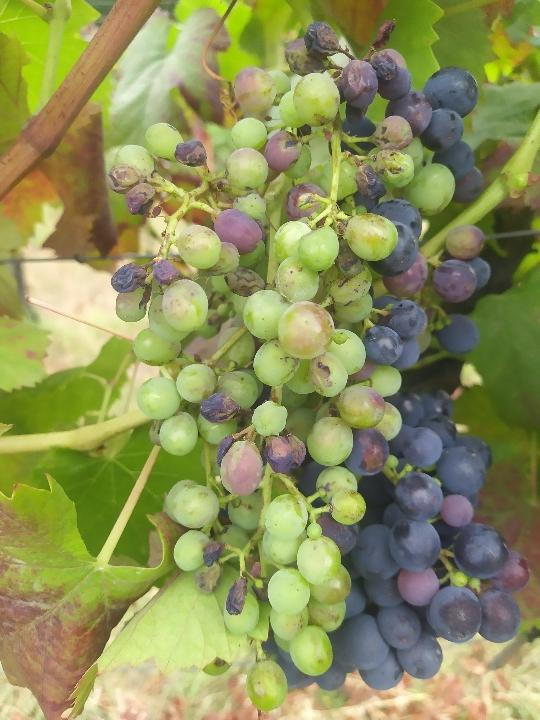grape: (99, 19, 534, 717)
